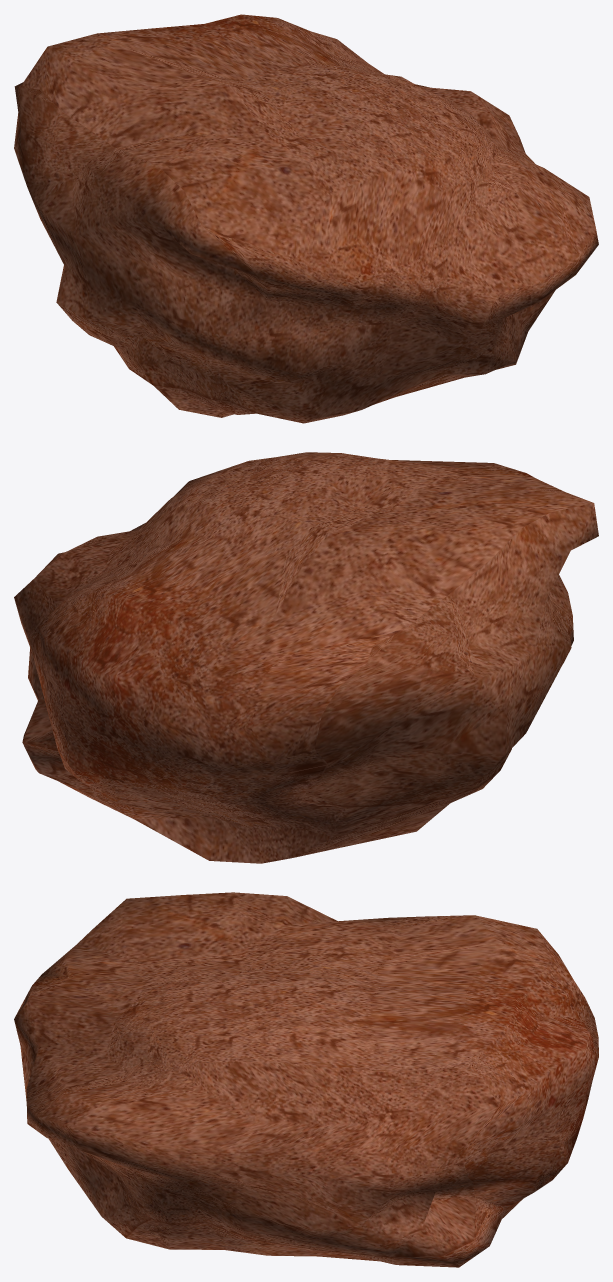
File: Rock_01.fbx
3 views of the same model, one above another, from view 1: azimuth 30°, elevation 25°; view 2: azimuth 150°, elevation 25°; view 3: azimuth 270°, elevation 25° (orthographic). The views are drawn at different scales.
Visible parts, largest first — view 1: Rock_03; view 2: Rock_03; view 3: Rock_03.
Part boxes in pixels (x1,y1,x2,y2): Rock_03: [14, 14, 598, 423]; Rock_03: [14, 452, 598, 863]; Rock_03: [14, 892, 598, 1267].
Bounding box in the file's own units: 13.52 × 8.1 × 15.55.
